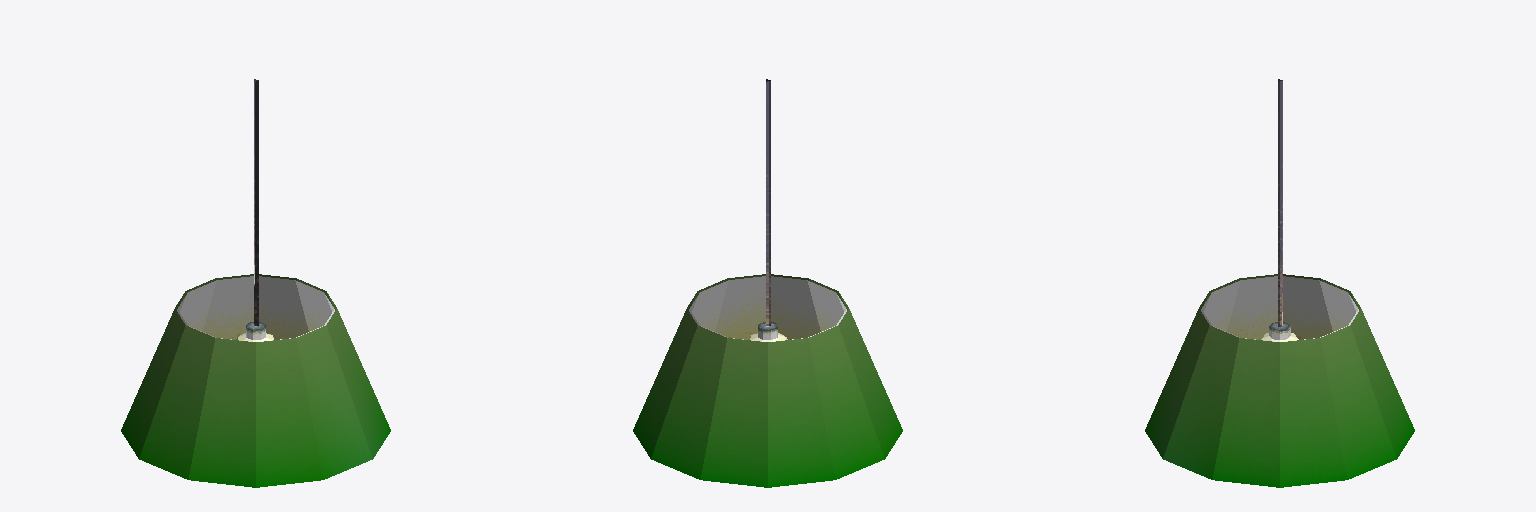
3 renders of one model, left to right at view 1: azimuth 30°, elevation 25°; view 2: azimuth 150°, elevation 25°; view 3: azimuth 270°, elevation 25°, orthographic.
Parts seen in each view (by area): view 1: Cone; view 2: Cone; view 3: Cone.
Boxes of the visible parts, <box> form: Cone: <box>121,79,390,487</box>; Cone: <box>633,79,902,487</box>; Cone: <box>1145,79,1414,487</box>.
Size of the model in its own units: 2 by 2.87 by 2.
1 materials, 1 textured.